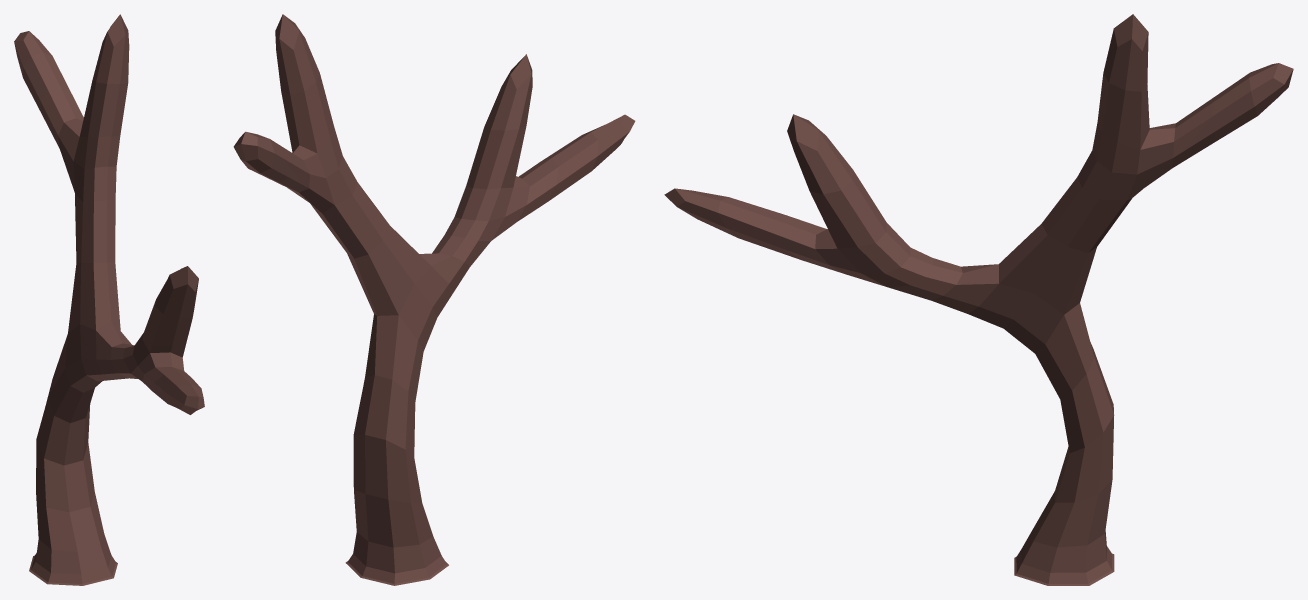
File: willow_dead_5.glb
The picture shows the model from 3 angles, left to right: view 1: azimuth 30°, elevation 25°; view 2: azimuth 150°, elevation 25°; view 3: azimuth 270°, elevation 25°; orthographic projection. The views are drawn at different scales.
Parts seen in each view (by area): view 1: Willow_Dead_5; view 2: Willow_Dead_5; view 3: Willow_Dead_5.
Boxes of the visible parts, x1,y1,x2,y2 form: Willow_Dead_5: [14, 14, 204, 585]; Willow_Dead_5: [233, 14, 635, 585]; Willow_Dead_5: [664, 14, 1293, 585].
Bounding box in the file's own units: 0.567 × 2.04 × 1.95.
